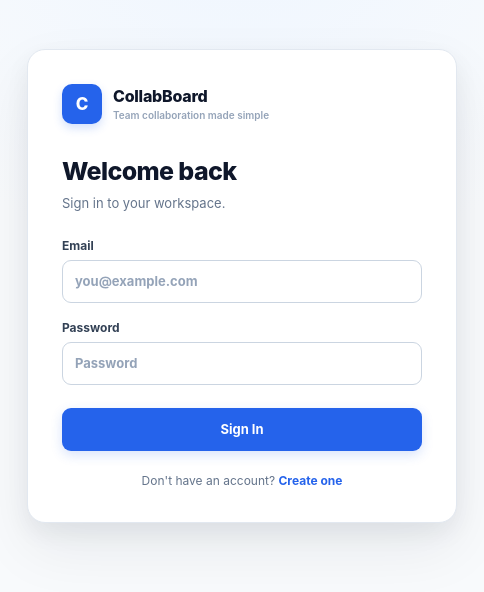
Test: Login › displays an API error when login fails
The width and height of the screenshot is (484, 592).
Type "wrong@example.com" into the field labelled "Email" at (242, 281), box left=62, top=260, right=422, bottom=303
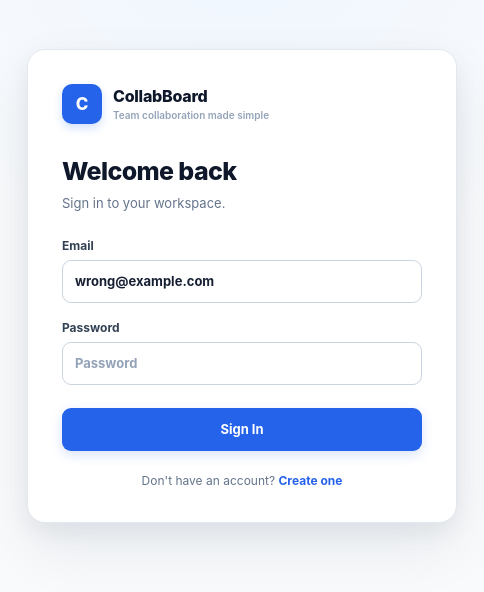
Type "wrongpassword" into the password field labelled "Password" at (242, 363), box left=62, top=342, right=422, bottom=385
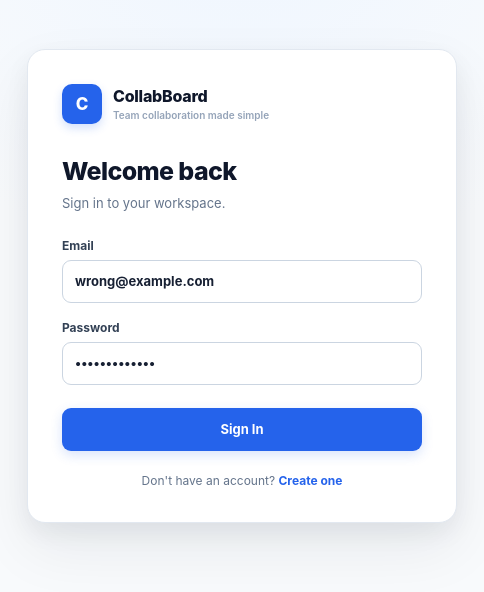
Click the button "Sign In" at (242, 429), box left=62, top=408, right=422, bottom=451
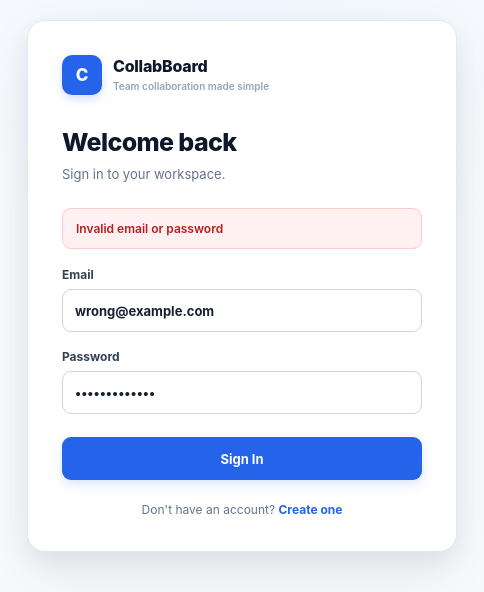
Expected: the text "Invalid email or password" is shown, left=62, top=208, right=422, bottom=249
